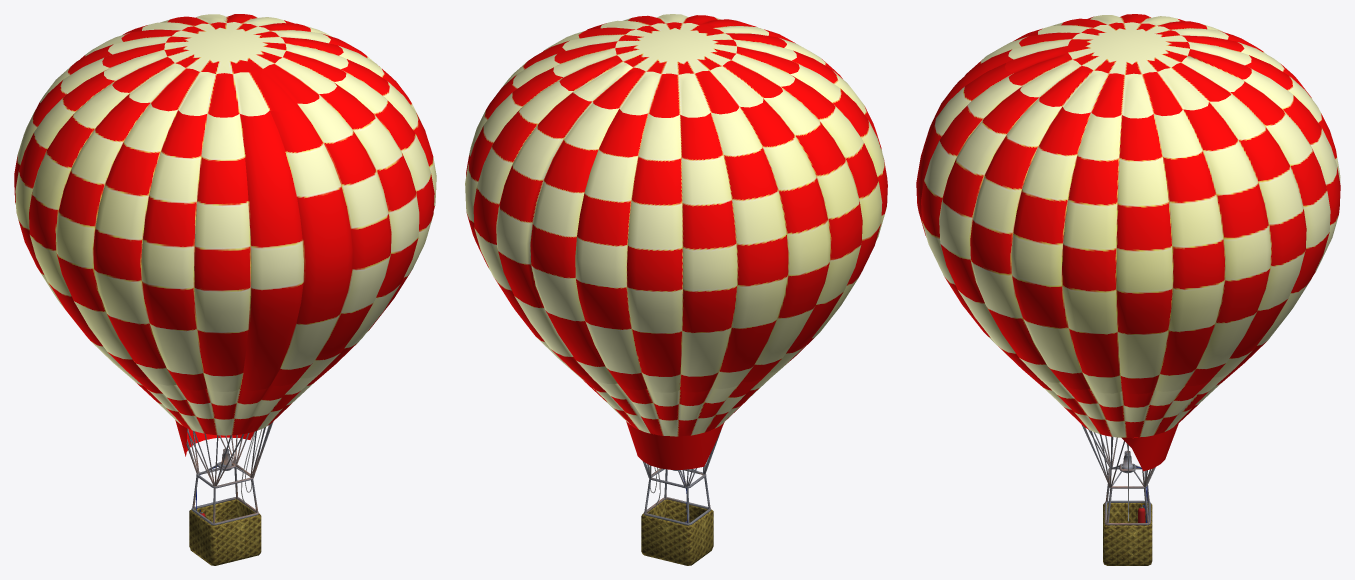
File: Fire balloon-2.FBX
The picture shows the model from 3 angles, left to right: view 1: azimuth 30°, elevation 25°; view 2: azimuth 150°, elevation 25°; view 3: azimuth 270°, elevation 25°; orthographic projection.
Parts seen in each view (by area): view 1: qiupi, fanghuobu001, zongpaiqikou001, diaolan001, gangsuo001, fangfengdou001; view 2: qiupi, fanghuobu001, zongpaiqikou001, diaolan001, fangfengdou001, gangsuo001; view 3: qiupi, fanghuobu001, zongpaiqikou001, diaolan001, gangsuo001, fangfengdou001.
Part boxes in pixels (x1,y1,x2,y2): qiupi: [14, 14, 436, 391]; fanghuobu001: [113, 363, 334, 435]; zongpaiqikou001: [164, 22, 286, 73]; diaolan001: [189, 499, 261, 565]; gangsuo001: [186, 421, 273, 525]; fangfengdou001: [175, 420, 253, 456]; qiupi: [465, 14, 887, 392]; fanghuobu001: [560, 359, 791, 436]; zongpaiqikou001: [615, 22, 736, 74]; diaolan001: [641, 499, 713, 565]; fangfengdou001: [626, 421, 724, 469]; gangsuo001: [642, 430, 721, 525]; qiupi: [916, 14, 1340, 394]; fanghuobu001: [1022, 363, 1244, 437]; zongpaiqikou001: [1067, 22, 1189, 74]; diaolan001: [1103, 503, 1152, 565]; gangsuo001: [1081, 424, 1155, 525]; fangfengdou001: [1121, 423, 1178, 471].
Size of the model in its own units: 2587 by 3452 by 2588.
